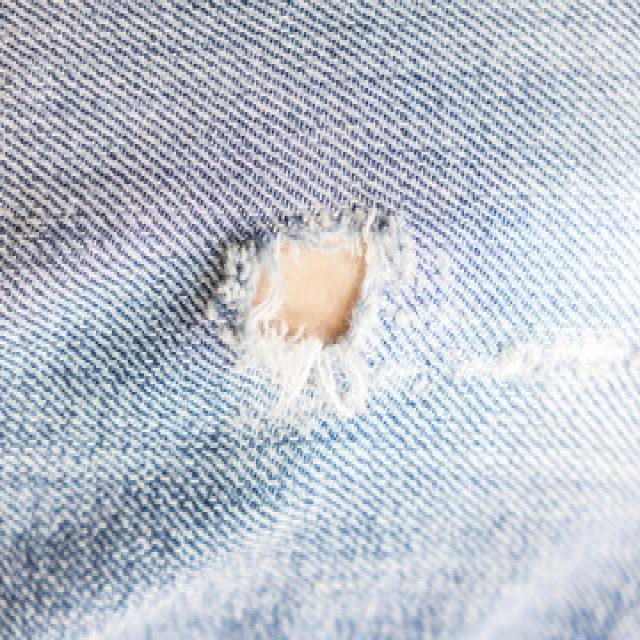Hole: (214, 205, 417, 417)
